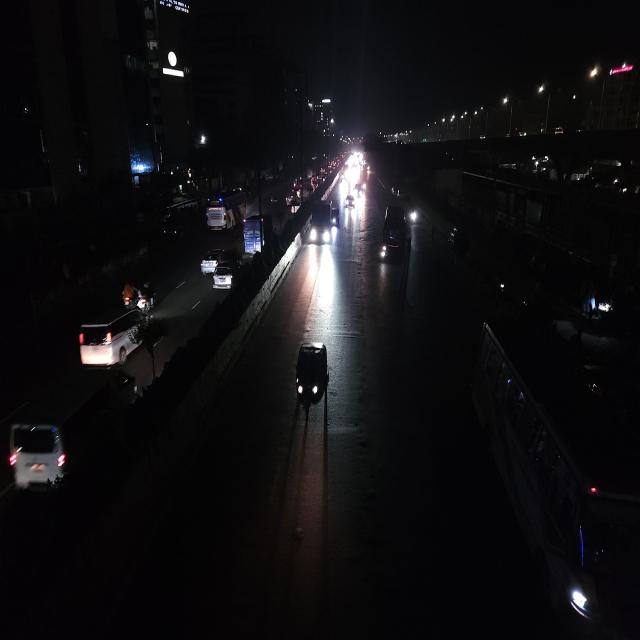bus: (473, 312, 639, 640), (378, 202, 409, 266), (205, 189, 247, 234)
car: (5, 419, 73, 500), (76, 304, 152, 369), (210, 262, 238, 294), (198, 247, 226, 274), (344, 194, 356, 212), (353, 182, 364, 198)
cng: (290, 338, 333, 422)
motorcycle: (123, 283, 157, 314)
pedestrian: (429, 223, 436, 243)
truck: (241, 212, 273, 257), (309, 197, 333, 248)
